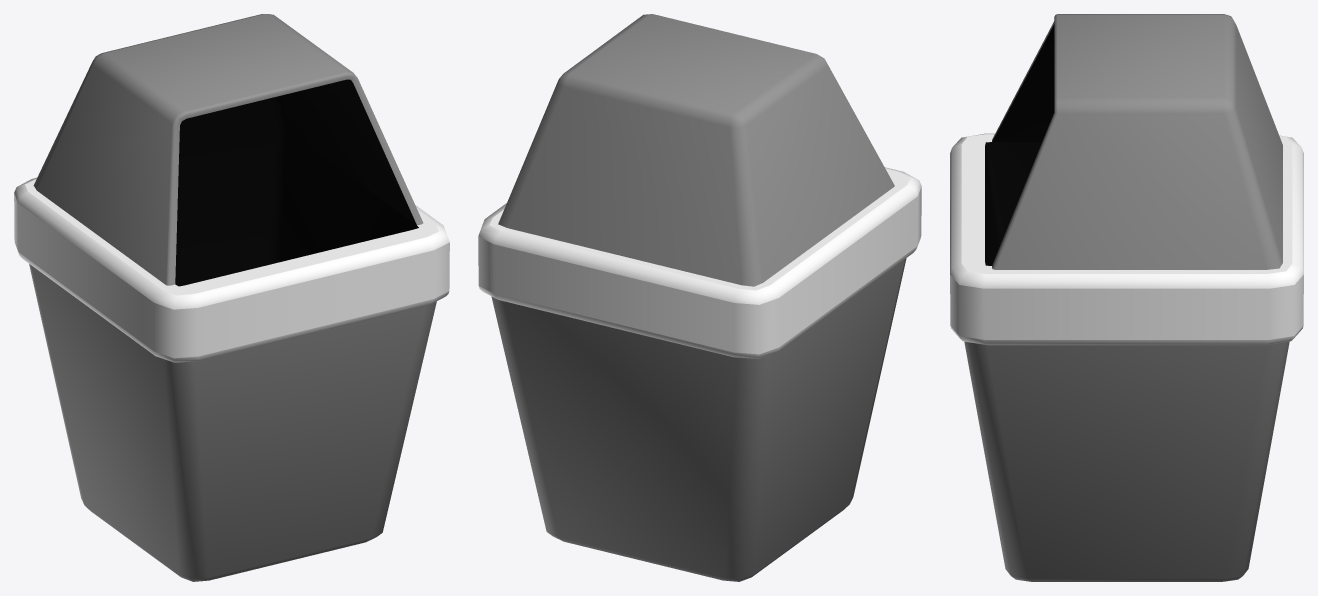
The model's file is prop_chubby_trashcan.fbx.
3 views of the same model, side by side, from view 1: azimuth 30°, elevation 25°; view 2: azimuth 150°, elevation 25°; view 3: azimuth 270°, elevation 25° (orthographic). The views are drawn at different scales.
Visible parts, largest first — view 1: Baytek_Trashbin.001; view 2: Baytek_Trashbin.001; view 3: Baytek_Trashbin.001.
Part boxes in pixels (left/top/right/bottom): Baytek_Trashbin.001: left=14, top=14, right=449, bottom=581; Baytek_Trashbin.001: left=478, top=14, right=921, bottom=581; Baytek_Trashbin.001: left=950, top=14, right=1303, bottom=581.
Bounding box in the file's own units: 73.99 × 110 × 73.99.
